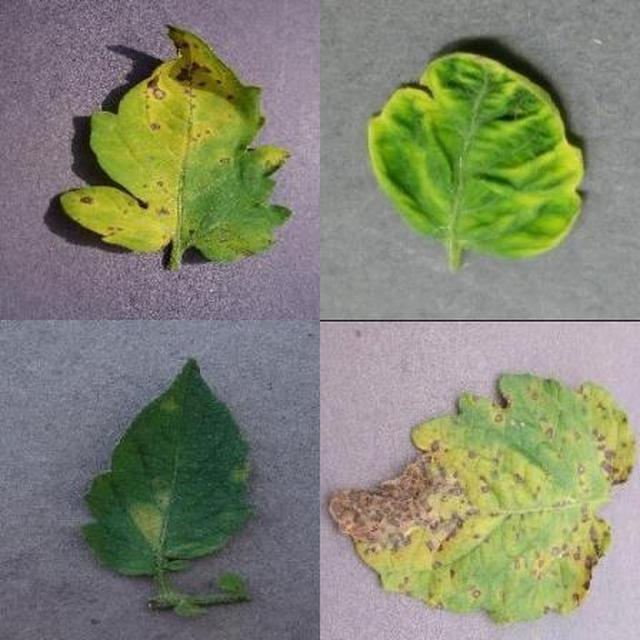Septoria Leaf: (244, 205, 640, 640)
